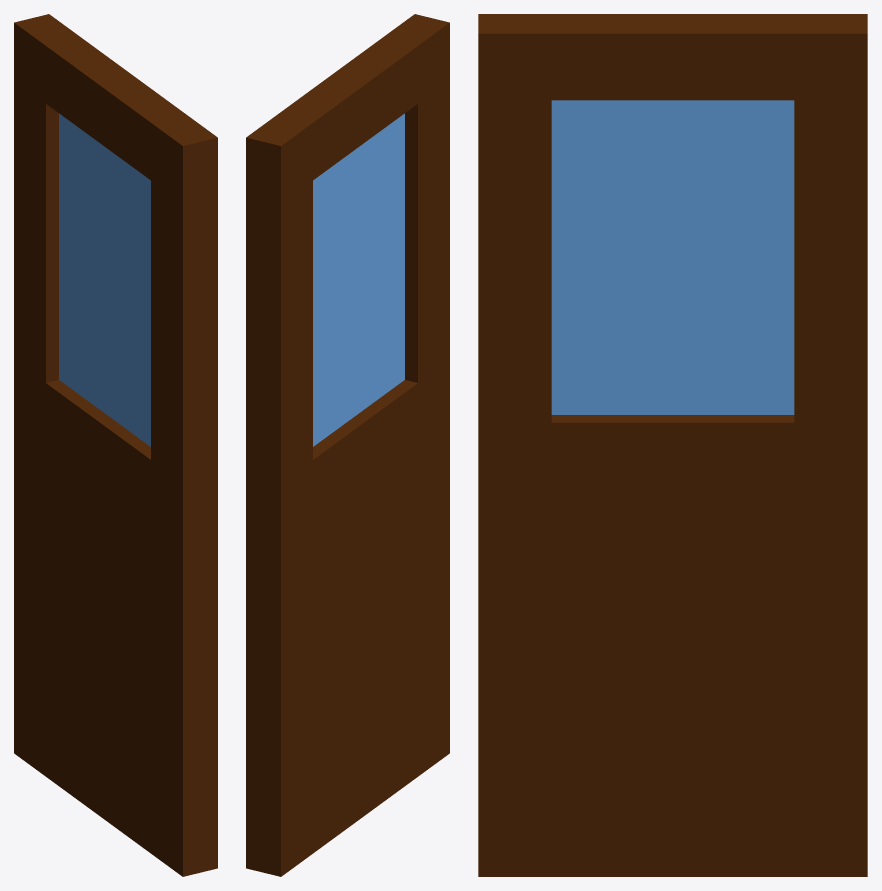
Rendered from Door 1.fbx.
3 views of the same model, side by side, from view 1: azimuth 30°, elevation 25°; view 2: azimuth 150°, elevation 25°; view 3: azimuth 270°, elevation 25° (orthographic). The views are drawn at different scales.
Parts seen in each view (by area): view 1: DOOR FRAME.002; view 2: DOOR FRAME.002; view 3: DOOR FRAME.002.
Part boxes in pixels (left/top/right/bottom): DOOR FRAME.002: left=14, top=14, right=217, bottom=876; DOOR FRAME.002: left=246, top=14, right=449, bottom=876; DOOR FRAME.002: left=478, top=14, right=867, bottom=876.
Size of the model in its own units: 10 by 199 by 83.41.
